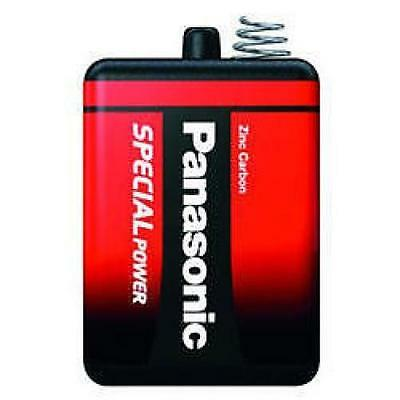6V: (67, 14, 327, 393)
